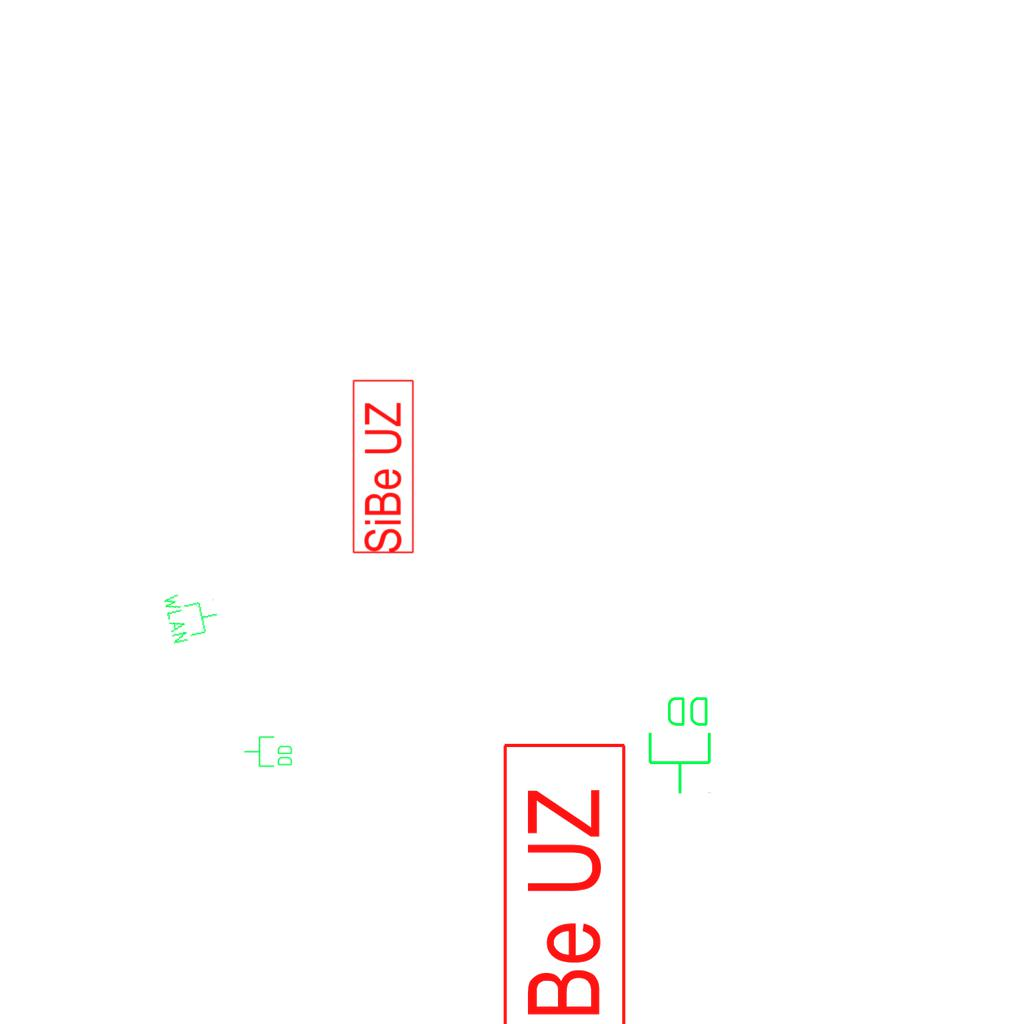Datenanschluss_zweifach: (646, 693, 715, 796), (243, 735, 294, 769)
WLAN: (160, 583, 224, 647)
Zentrale_Sicherheitsbeleuchtung: (500, 738, 630, 1024), (351, 377, 416, 555)
